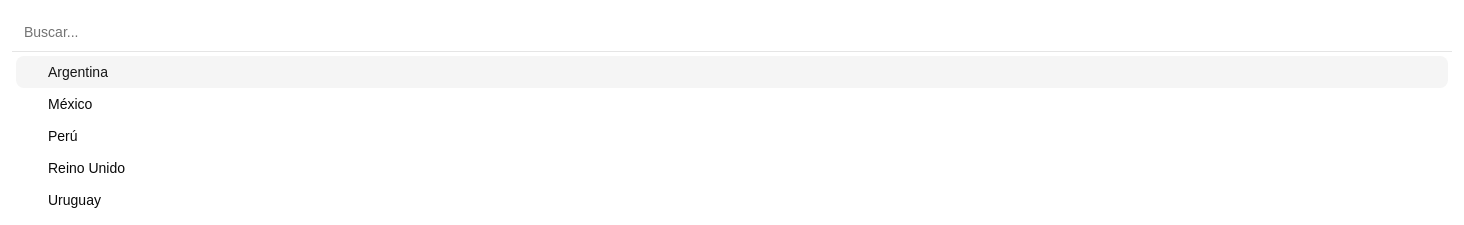
Scenario: with no results the status says Sin resultados
Type "zzz" into the dropdown labelled "Buscar" at point(732, 32), box [12,12,1452,52]
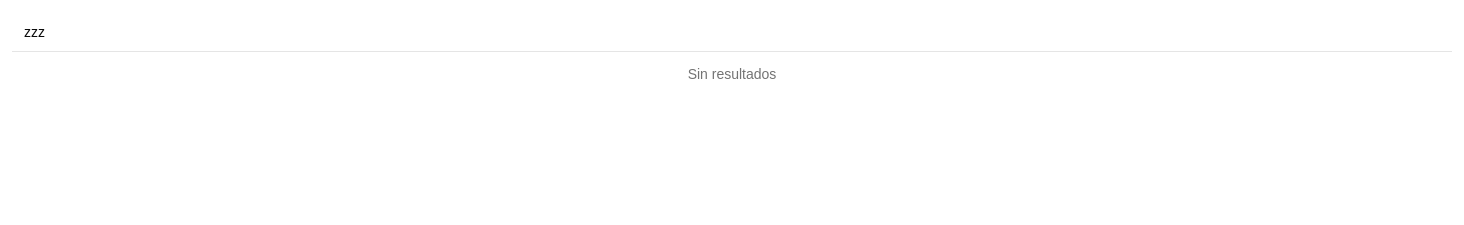
Now the message reads "Sin resultados", box [688,66,776,82]
